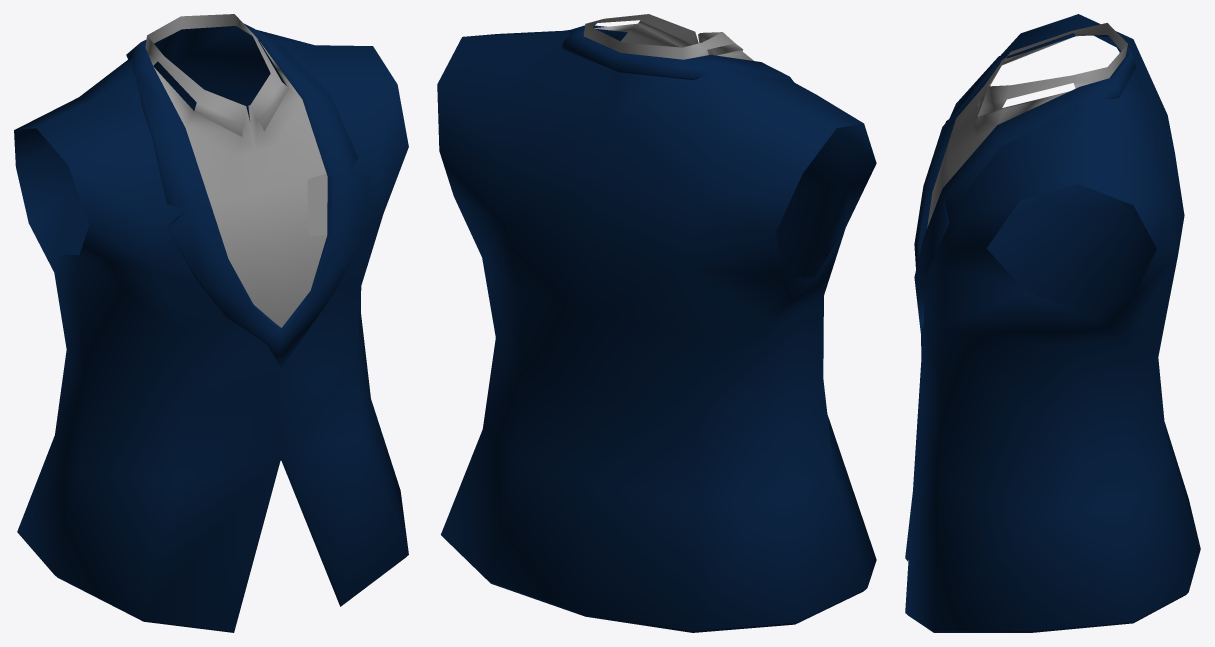
File: body.obj
3 renders of one model, left to right at view 1: azimuth 30°, elevation 25°; view 2: azimuth 150°, elevation 25°; view 3: azimuth 270°, elevation 25°, orthographic. The views are drawn at different scales.
Parts seen in each view (by area): view 1: polySurface6 _Mesh1, _Mesh2; view 2: polySurface6 _Mesh1, _Mesh2; view 3: polySurface6 _Mesh1, _Mesh2.
Boxes of the visible parts, <box> form: polySurface6 _Mesh1: <box>14,23,408,632</box>; _Mesh2: <box>145,14,327,327</box>; polySurface6 _Mesh1: <box>437,25,876,632</box>; _Mesh2: <box>583,14,753,60</box>; polySurface6 _Mesh1: <box>905,14,1200,632</box>; _Mesh2: <box>927,23,1127,228</box>.
Bounding box in the file's own units: 26.59 × 38.6 × 18.99.
